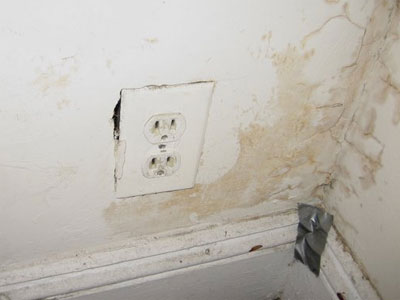outlet: (152, 118, 179, 142), (150, 153, 173, 178)
